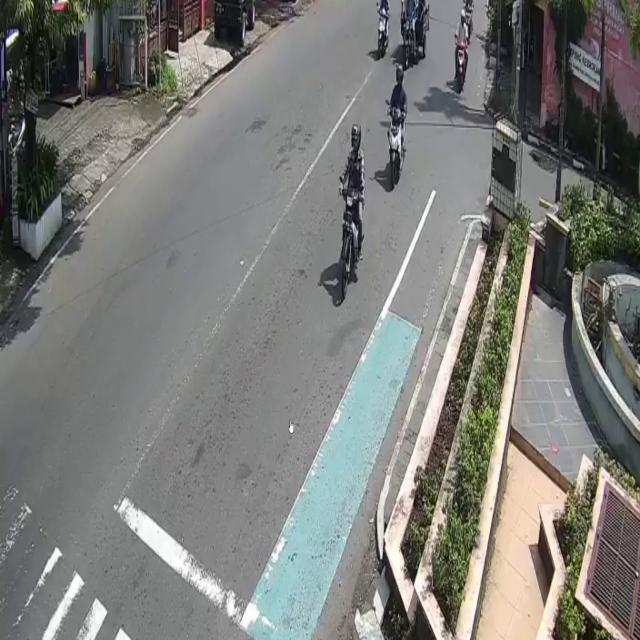bus: (338, 187, 364, 293), (388, 100, 405, 188), (457, 36, 466, 100)
